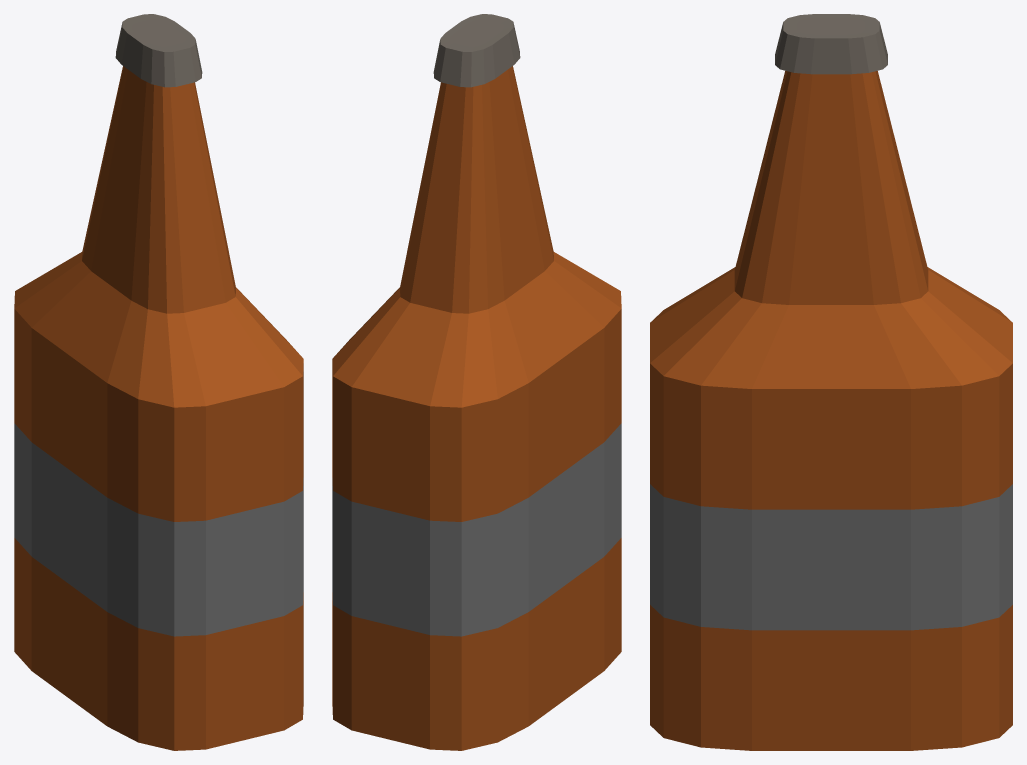
Rendered from Alcohol_Bottle_01.fbx.
3 renders of one model, left to right at view 1: azimuth 30°, elevation 25°; view 2: azimuth 150°, elevation 25°; view 3: azimuth 270°, elevation 25°, orthographic. The views are drawn at different scales.
Visible parts, largest first — view 1: Bottle_01; view 2: Bottle_01; view 3: Bottle_01.
Boxes of the visible parts, left/top/right/bottom form: Bottle_01: left=14, top=14, right=303, bottom=750; Bottle_01: left=332, top=14, right=621, bottom=750; Bottle_01: left=650, top=14, right=1012, bottom=750.
Size of the model in its own units: 26.91 by 92.54 by 44.85.
